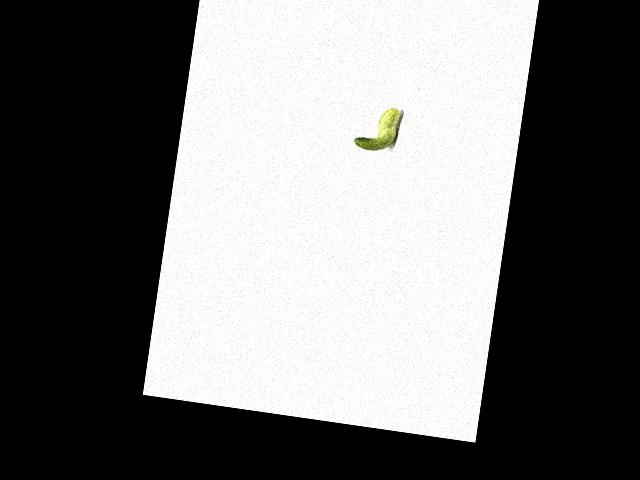cucumber: (353, 103, 401, 154)
